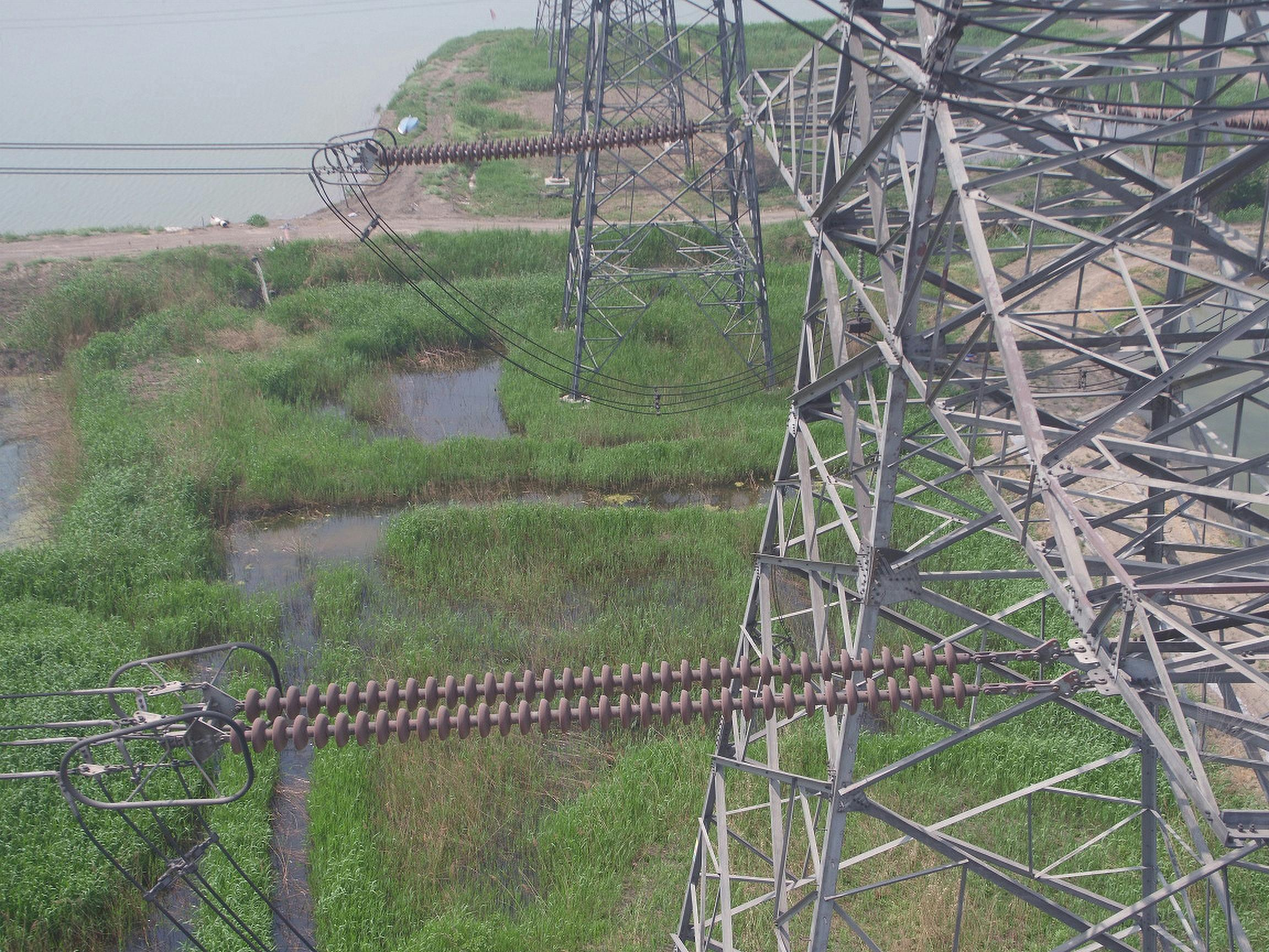insulator: (225, 636, 969, 758), (374, 116, 700, 170), (1095, 101, 1269, 133)
